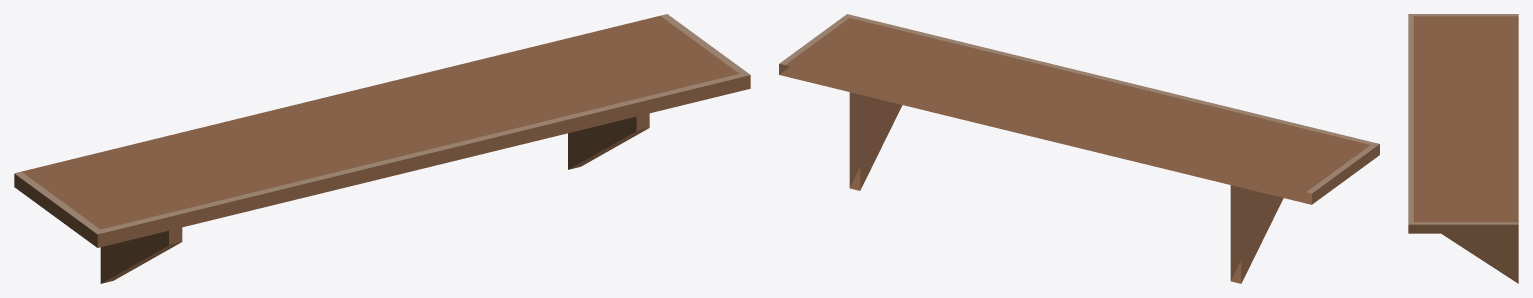
The model's file is Repisa-2.FBX.
3 views of the same model, side by side, from view 1: azimuth 30°, elevation 25°; view 2: azimuth 150°, elevation 25°; view 3: azimuth 270°, elevation 25° (orthographic). The views are drawn at different scales.
Visible parts, largest first — view 1: Repisa001; view 2: Repisa001; view 3: Repisa001.
Boxes of the visible parts, x1=… form: Repisa001: x1=14, y1=14, x2=750, y2=283; Repisa001: x1=779, y1=14, x2=1379, y2=283; Repisa001: x1=1408, y1=14, x2=1518, y2=283.
Bounding box in the file's own units: 230 × 50.89 × 44.32.
